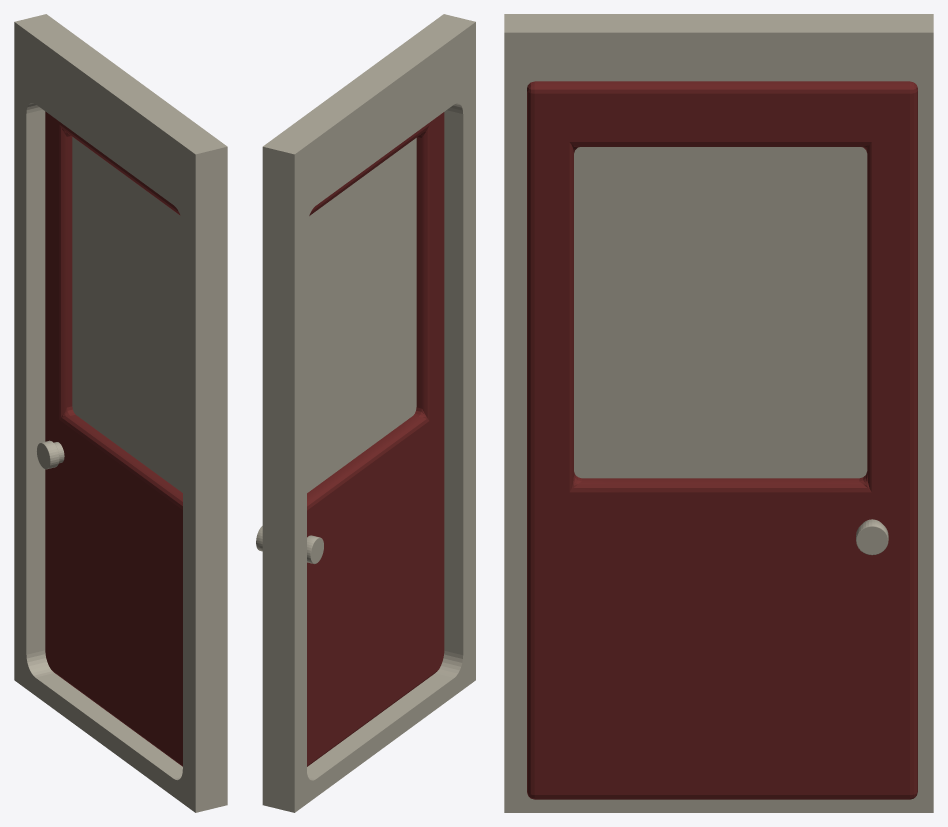
Rendered from wall_door_1x2.fbx.
3 renders of one model, left to right at view 1: azimuth 30°, elevation 25°; view 2: azimuth 150°, elevation 25°; view 3: azimuth 270°, elevation 25°, orthographic. The views are drawn at different scales.
Parts seen in each view (by area): view 1: door; view 2: door; view 3: door.
Boxes of the visible parts, x1,y1,x2,y2 form: door: (14, 14, 227, 812); door: (256, 14, 475, 812); door: (504, 14, 933, 812).
Size of the model in its own units: 18.43 by 200 by 99.82.
